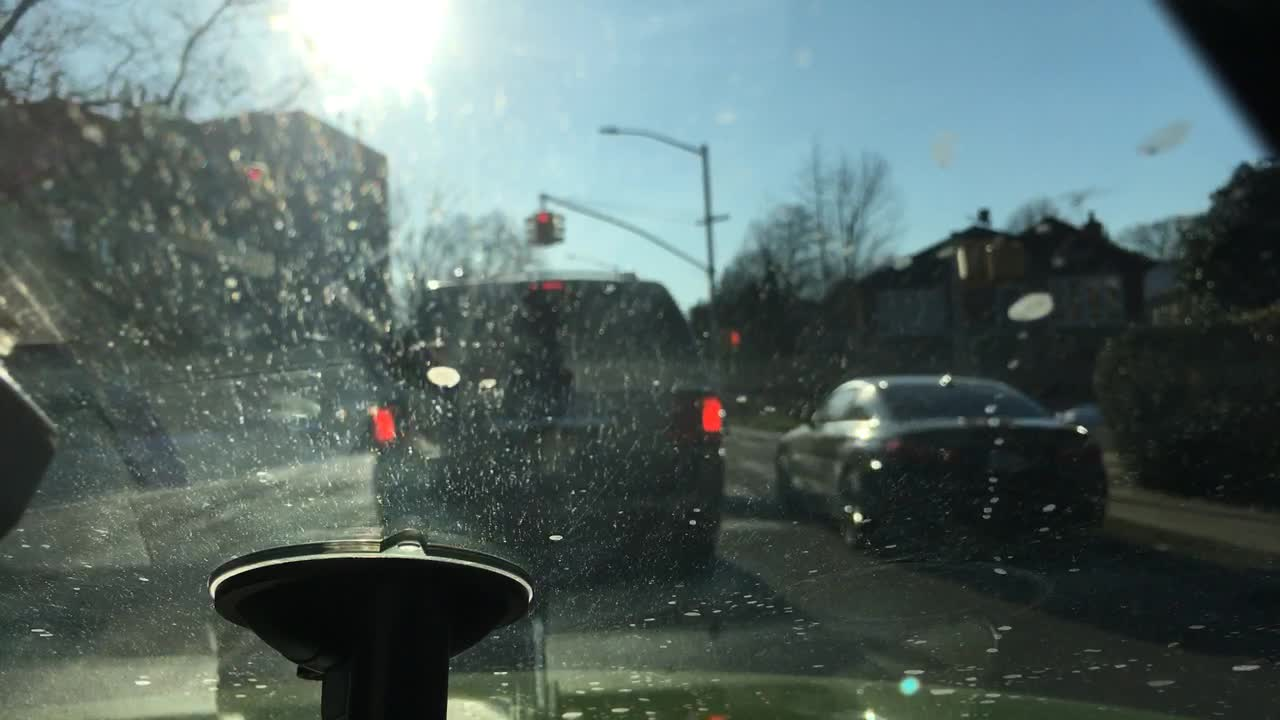car: (376, 272, 731, 590), (771, 376, 1110, 557), (1054, 401, 1106, 432)
traffic light: (536, 212, 554, 242), (729, 328, 744, 353)
